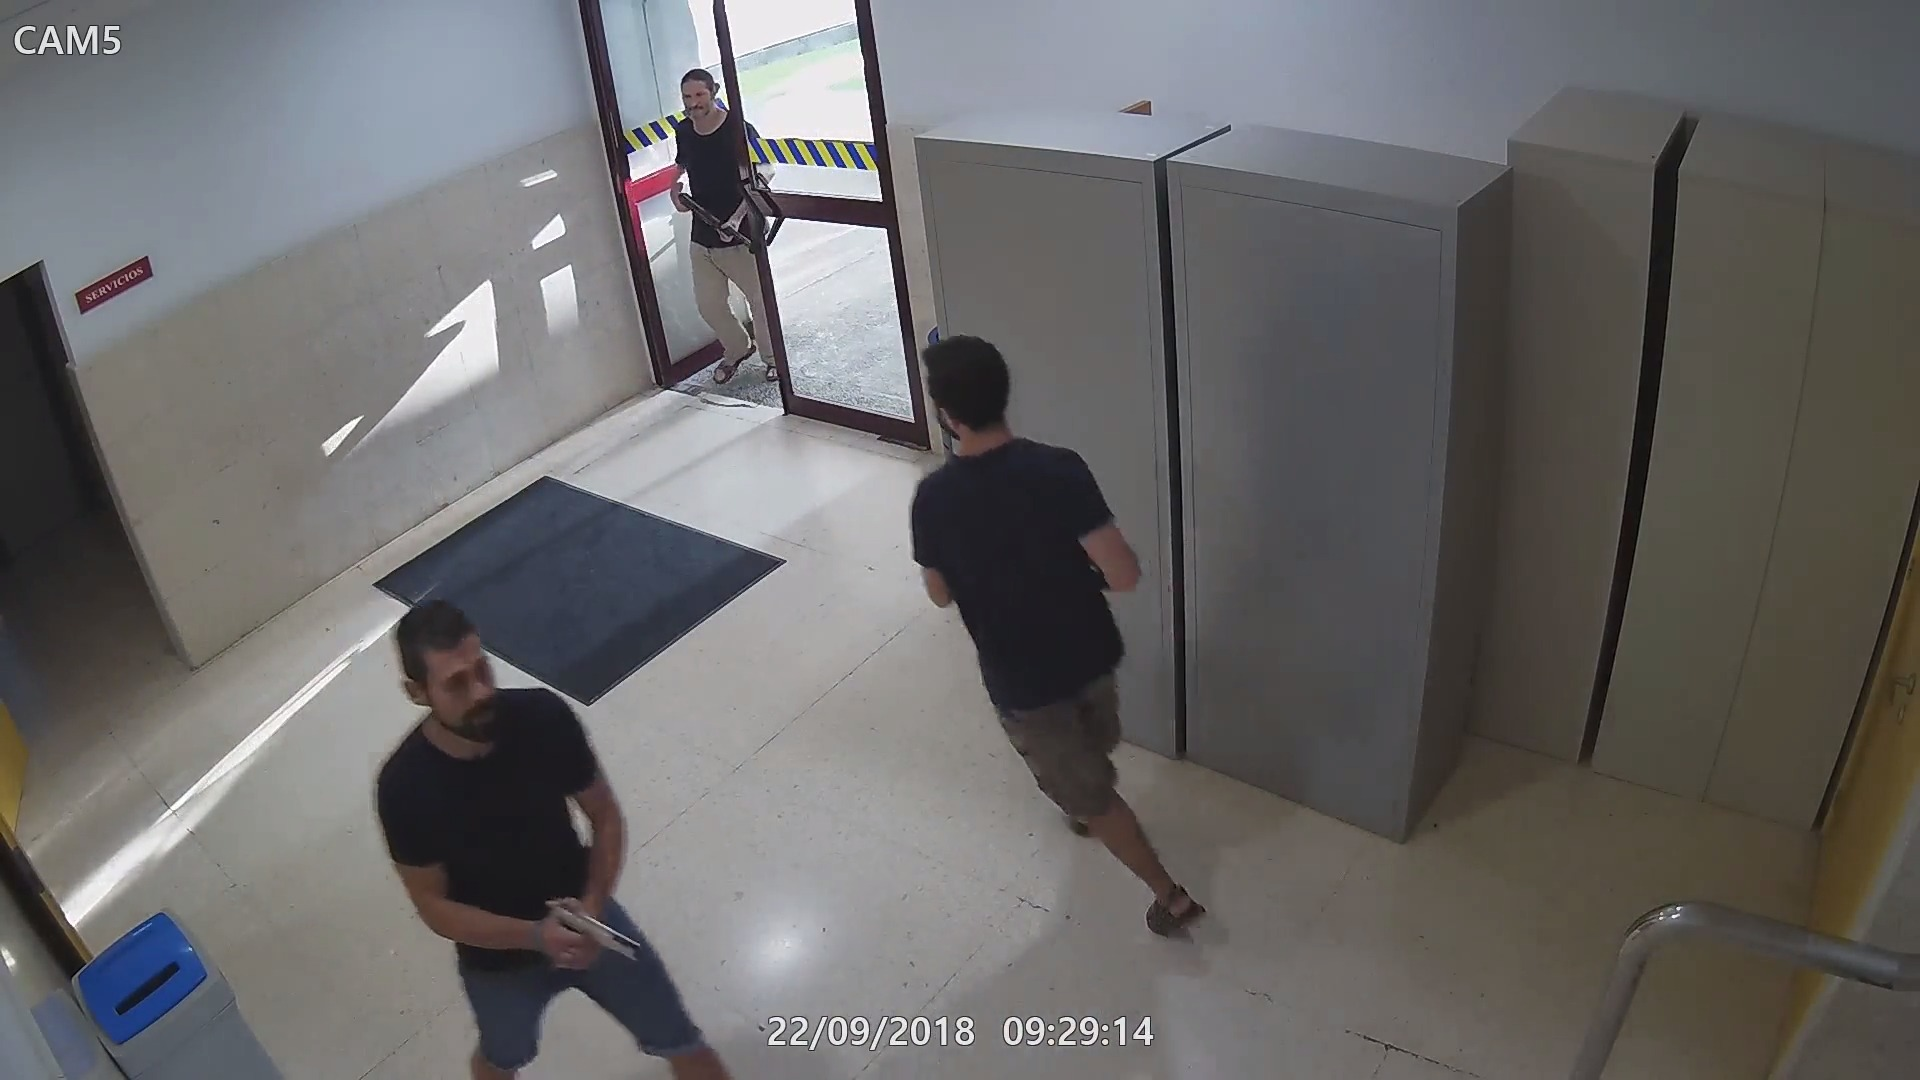Handgun: (541, 890, 640, 980)
Short_rifle: (671, 186, 762, 257)
